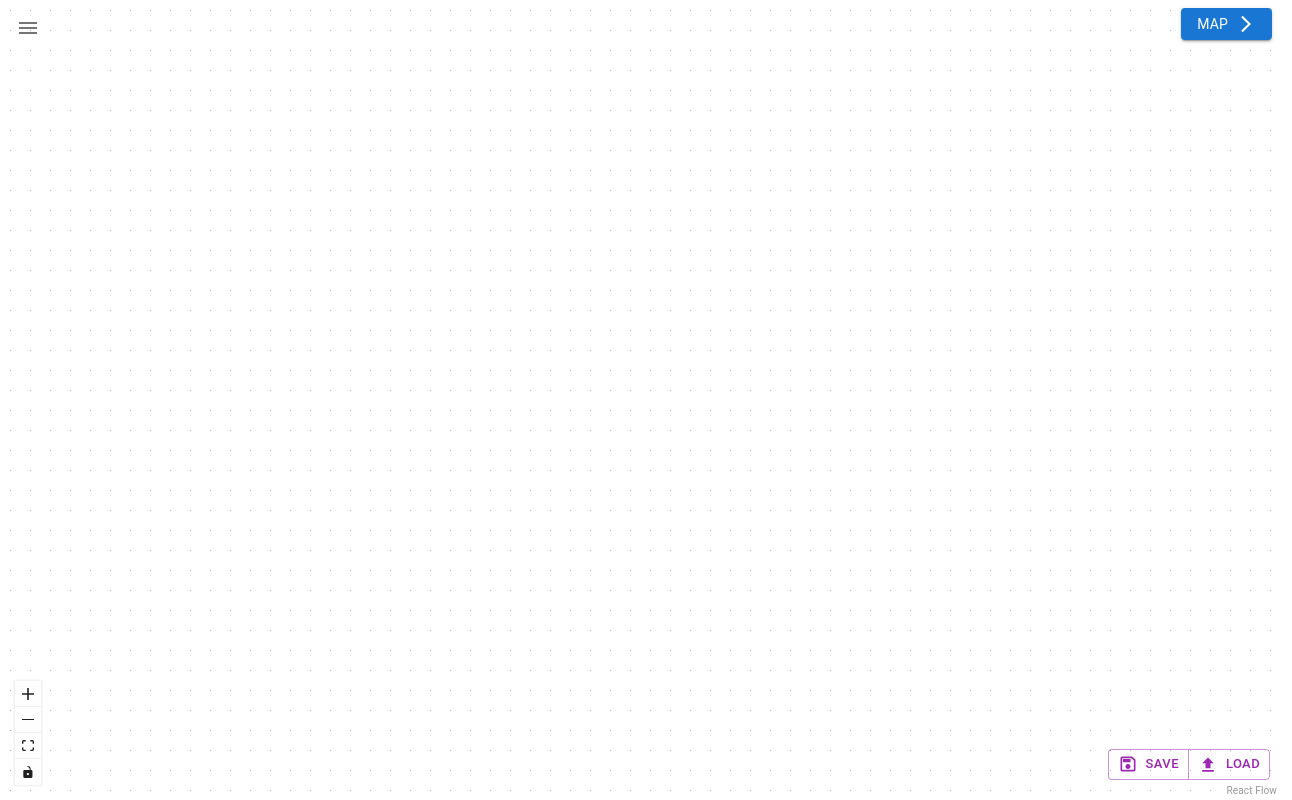
Test: Flow Component › should open drawer
Click the button with test id "menu-icon": coordinates (28, 28) [8, 8, 48, 48]
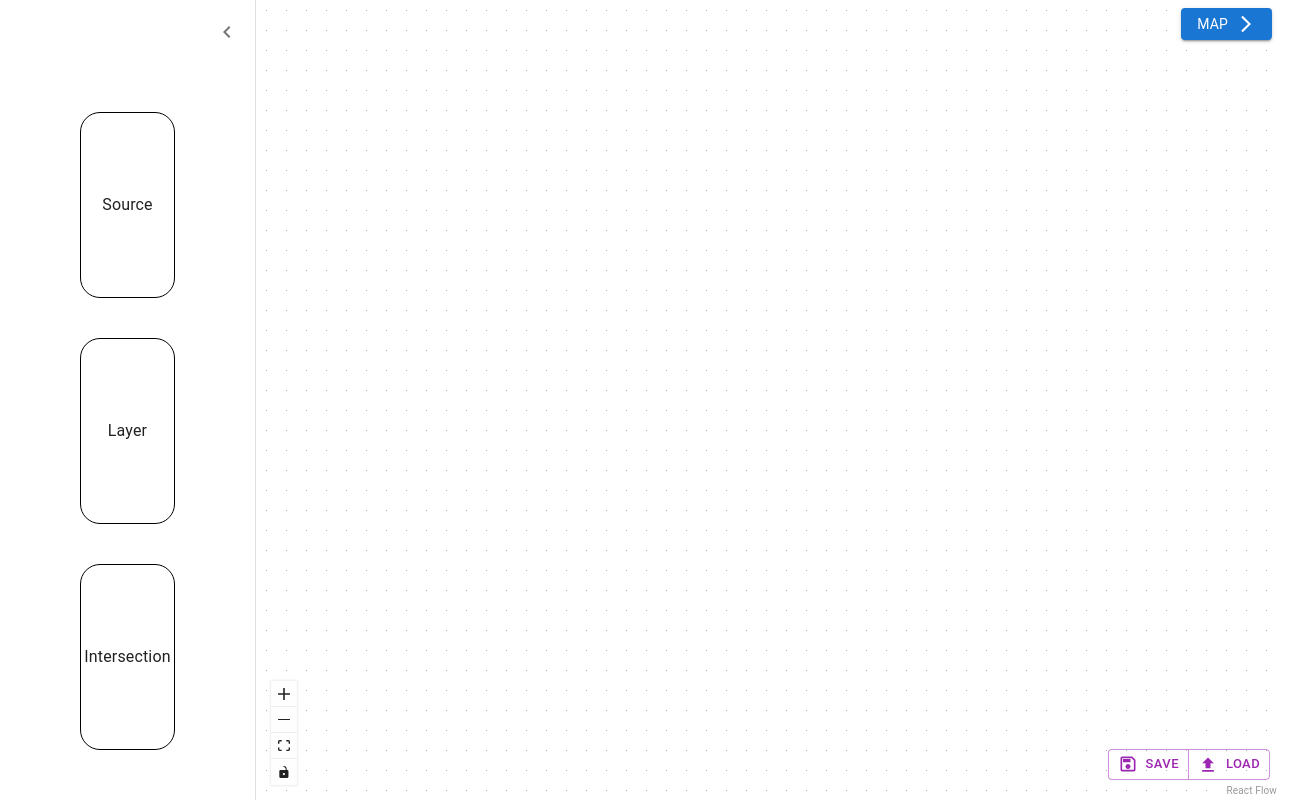
Now the element with test id "drawer" is shown, box [0, 0, 256, 799]
